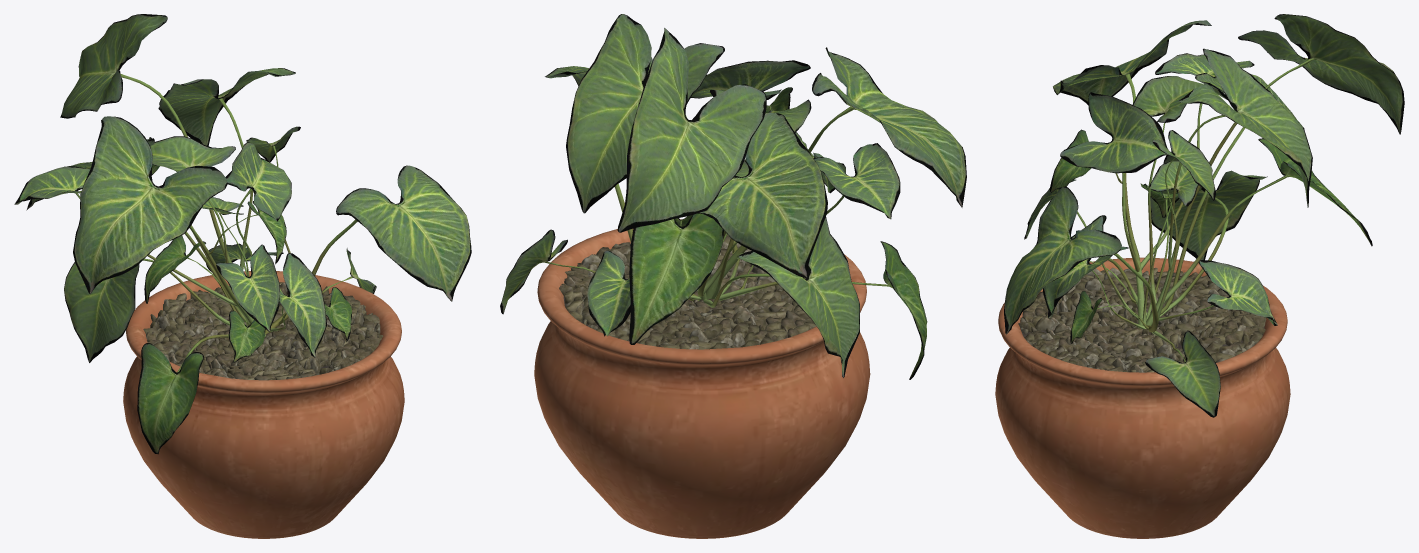
Rendered from potted_plant_02.glb.
3 views of the same model, side by side, from view 1: azimuth 30°, elevation 25°; view 2: azimuth 150°, elevation 25°; view 3: azimuth 270°, elevation 25° (orthographic). The views are drawn at different scales.
Parts seen in each view (by area): view 1: potted_plant_02_leaves, potted_plant_02_pot, potted_plant_02_dirt; view 2: potted_plant_02_leaves, potted_plant_02_pot, potted_plant_02_dirt; view 3: potted_plant_02_leaves, potted_plant_02_pot, potted_plant_02_dirt.
Boxes of the visible parts, x1=… form: potted_plant_02_leaves: x1=14, y1=14, x2=471, y2=454; potted_plant_02_pot: x1=123, y1=271, x2=404, y2=538; potted_plant_02_dirt: x1=143, y1=282, x2=383, y2=380; potted_plant_02_leaves: x1=500, y1=14, x2=966, y2=379; potted_plant_02_pot: x1=534, y1=219, x2=870, y2=538; potted_plant_02_dirt: x1=559, y1=233, x2=816, y2=349; potted_plant_02_leaves: x1=1004, y1=14, x2=1404, y2=417; potted_plant_02_pot: x1=995, y1=257, x2=1290, y2=538; potted_plant_02_dirt: x1=1018, y1=267, x2=1266, y2=372.
Size of the model in its own units: 0.7012 by 0.8412 by 0.6574.
2 materials, 2 textured.
